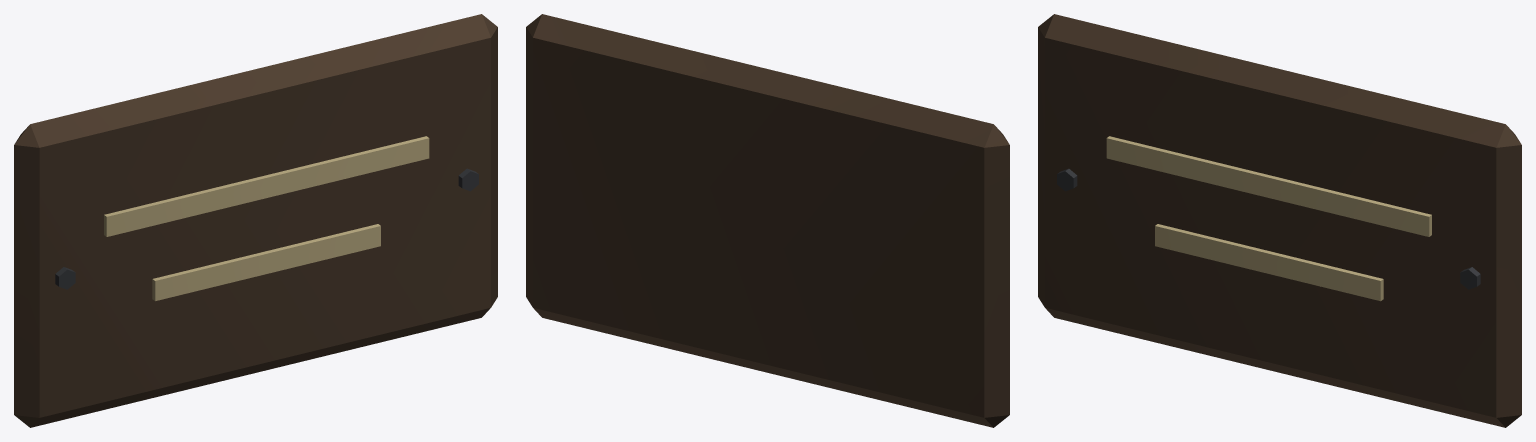
Rendered from ph_int_memorial_plate.glb.
3 renders of one model, left to right at view 1: azimuth 30°, elevation 25°; view 2: azimuth 150°, elevation 25°; view 3: azimuth 330°, elevation 25°, orthographic.
Visible parts, largest first — view 1: ph_int_memorial_plate; view 2: ph_int_memorial_plate; view 3: ph_int_memorial_plate.
Part boxes in pixels (x1=…): ph_int_memorial_plate: x1=14, y1=14, x2=497, y2=427; ph_int_memorial_plate: x1=526, y1=14, x2=1009, y2=427; ph_int_memorial_plate: x1=1038, y1=14, x2=1521, y2=427.
Size of the model in its own units: 0.3 by 0.18 by 0.024.
